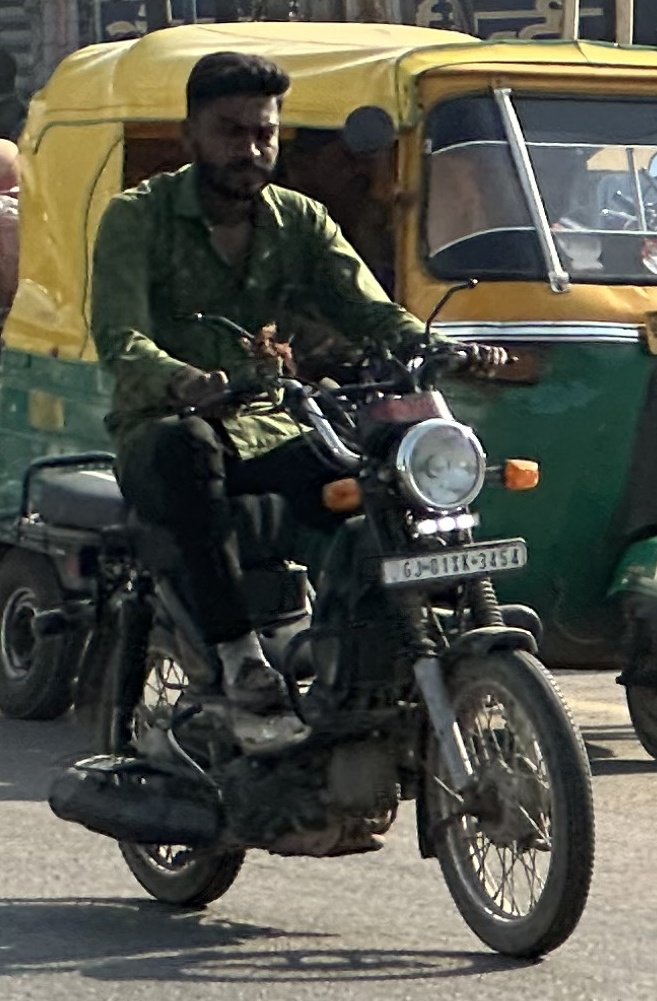BikeWithRider: (8, 44, 612, 967)
NoHelmet: (165, 45, 299, 212)
